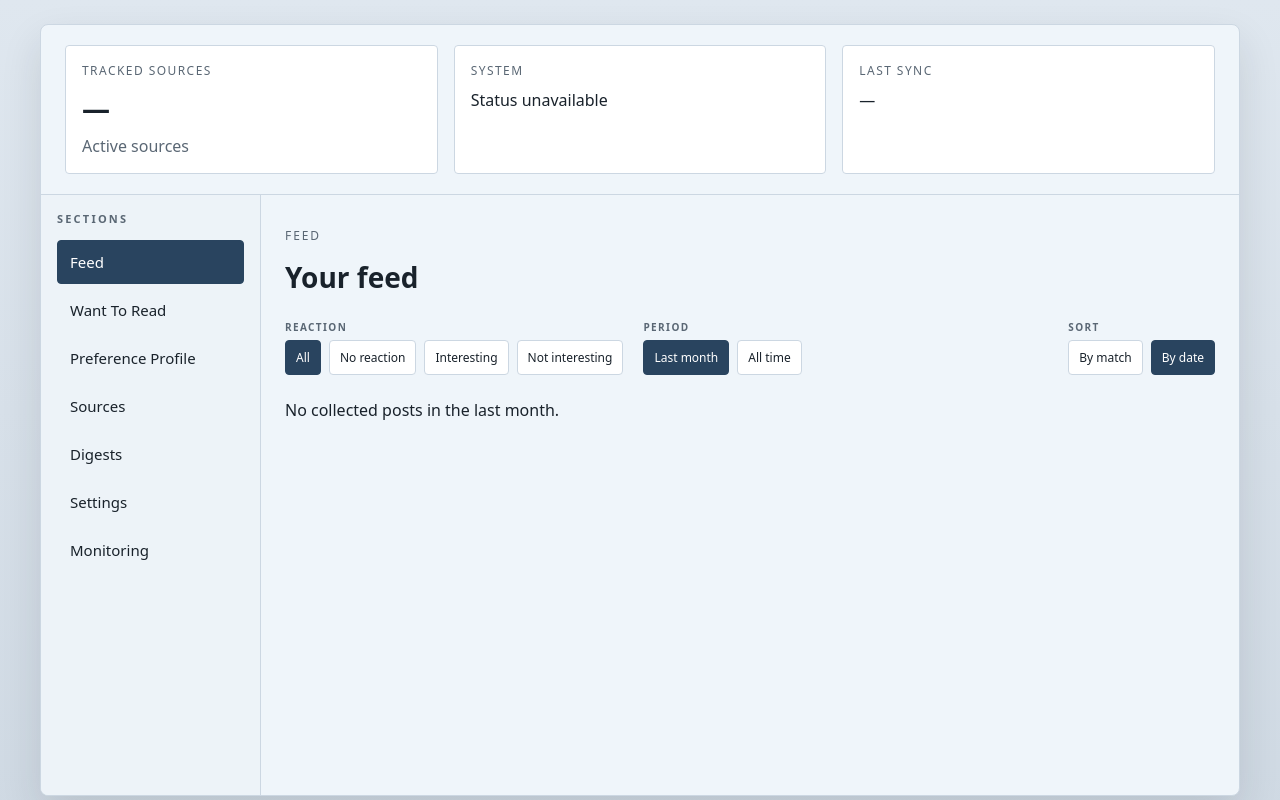
Scenario: want to read tab loads saved posts from the saved filter
expect the text "No collected posts in the last month." is shown: met, box x1=285 y1=399 x2=559 y2=421
Click the button "Want To Read": (150, 310) x1=57 y1=288 x2=244 y2=332
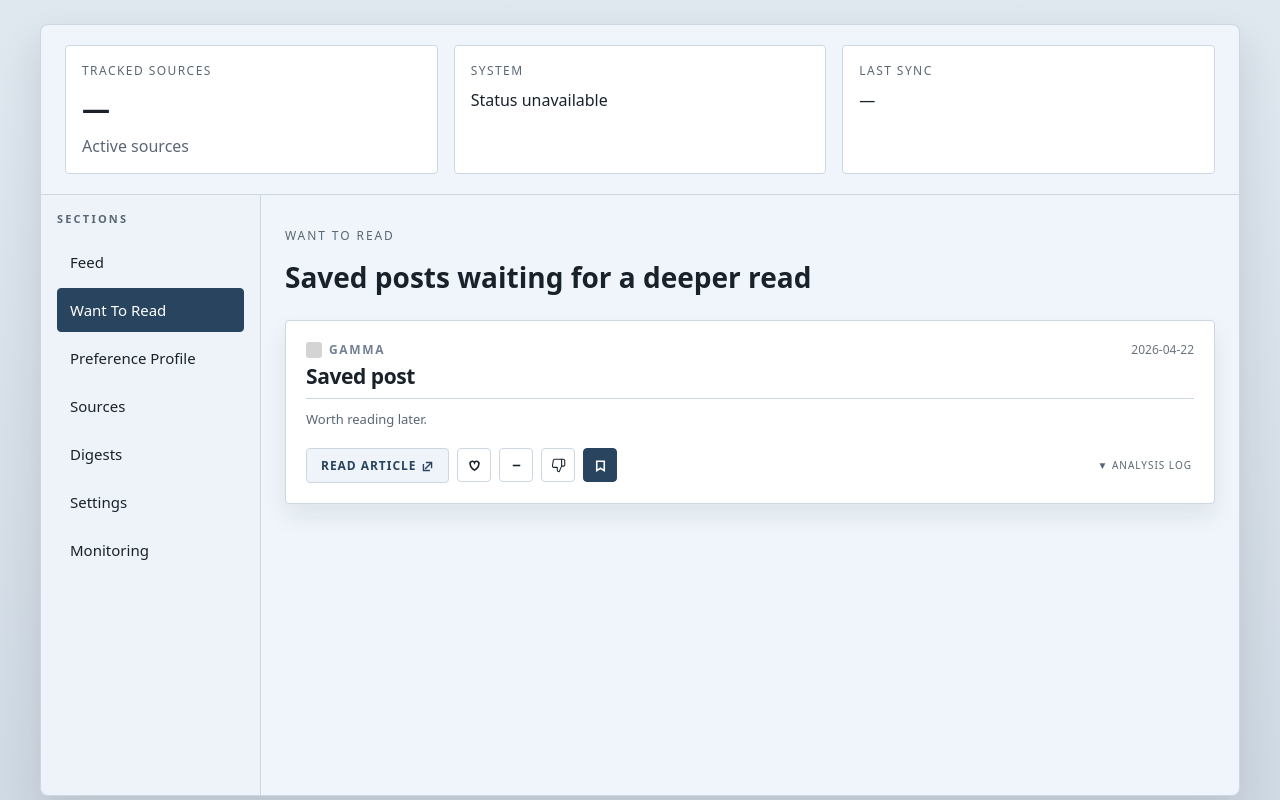
expect the heading "Saved post" is shown: met, box x1=306 y1=364 x2=415 y2=388
expect the button named "Remove from Read Later" is shown: met, box x1=583 y1=448 x2=617 y2=482
expect the button named "Interesting" is shown: met, box x1=457 y1=448 x2=491 y2=482
